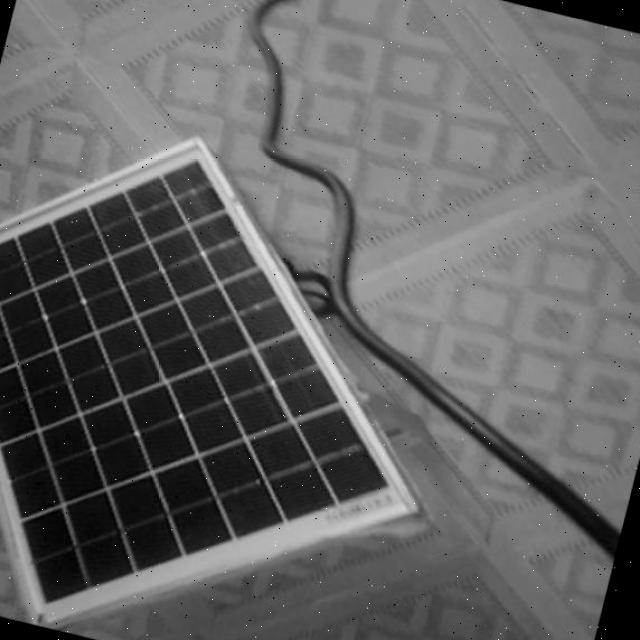Normal Solar Panel: (1, 100, 495, 640)
